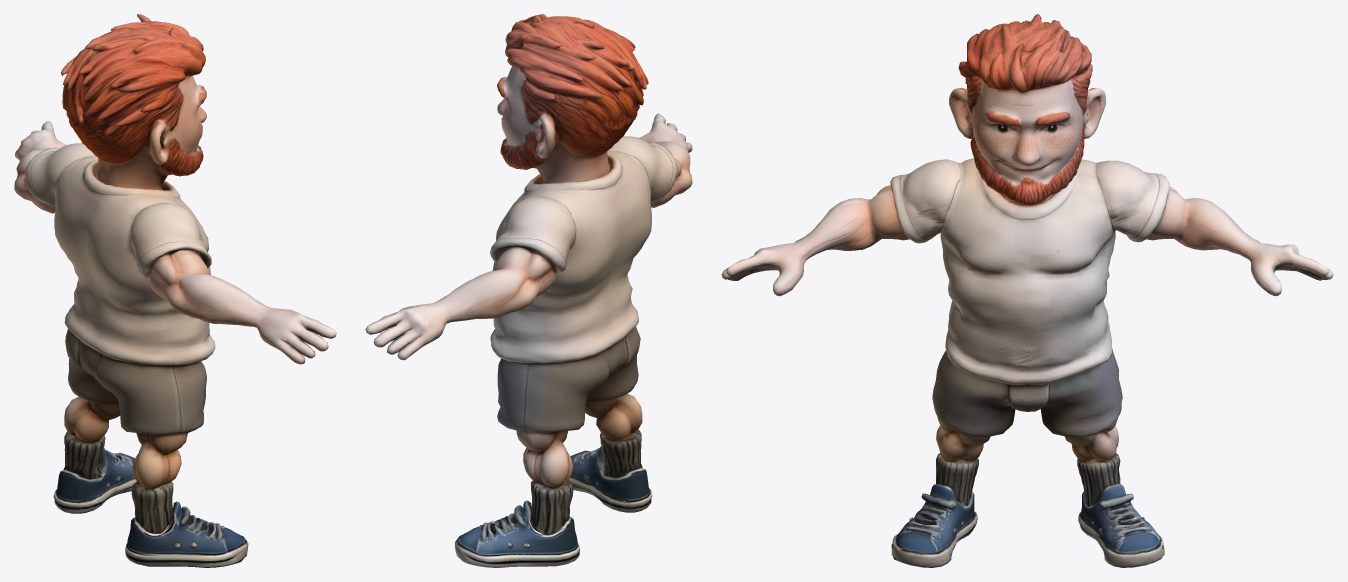
3 views of the same model, side by side, from view 1: azimuth 30°, elevation 25°; view 2: azimuth 150°, elevation 25°; view 3: azimuth 270°, elevation 25° (orthographic). The views are drawn at different scales.
Visible parts, largest first — view 1: tripo_node_491098da; view 2: tripo_node_491098da; view 3: tripo_node_491098da.
Part boxes in pixels (x1=…): tripo_node_491098da: x1=14, y1=14, x2=336, y2=567; tripo_node_491098da: x1=365, y1=14, x2=692, y2=567; tripo_node_491098da: x1=721, y1=14, x2=1333, y2=567.
Size of the model in its own units: 0.2661 by 0.9256 by 1.
Materials: 1 (1 with a texture image).
